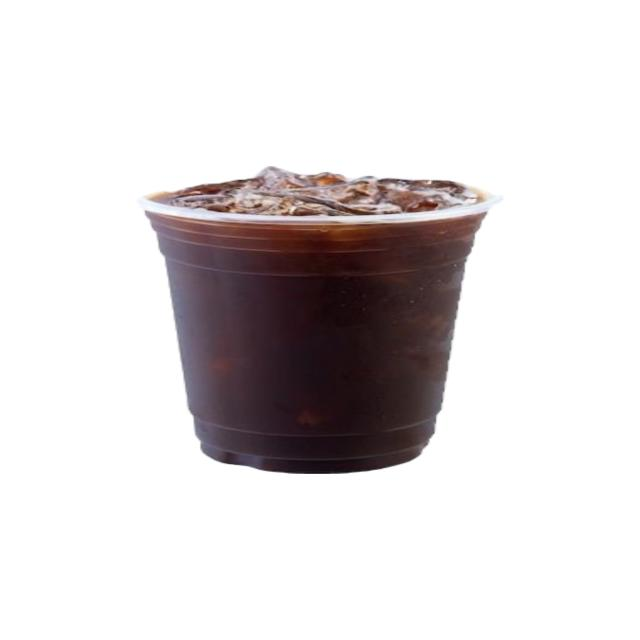plastic cup: (139, 167, 502, 475)
